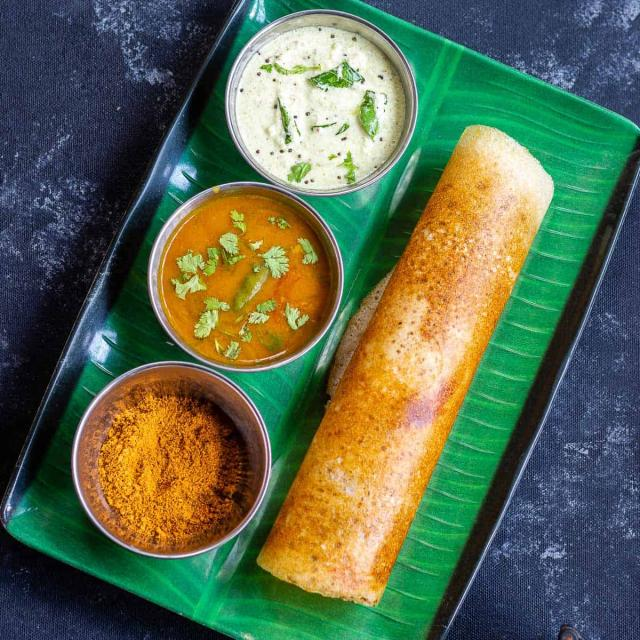plain dosa: (268, 139, 554, 615)
